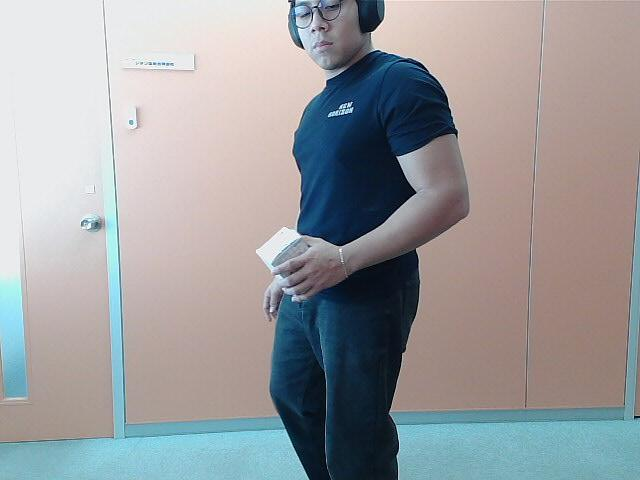Blind_box: (252, 222, 320, 297)
